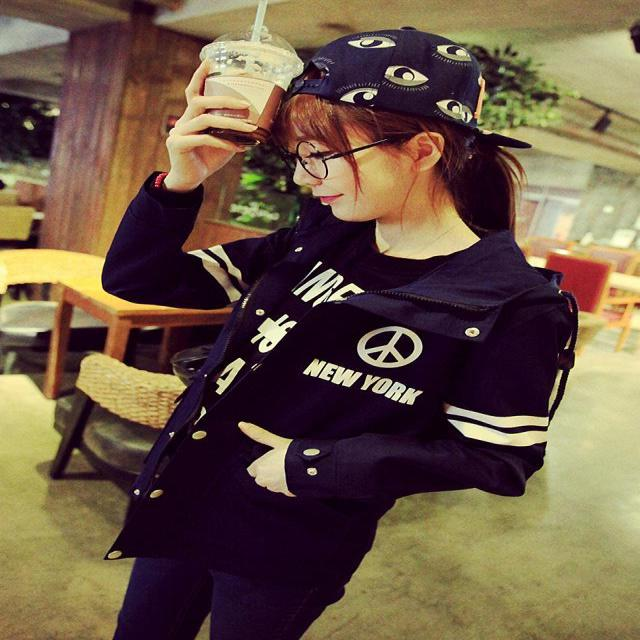long sleeve outwear: (107, 172, 375, 496)
trousers: (115, 514, 352, 639)
